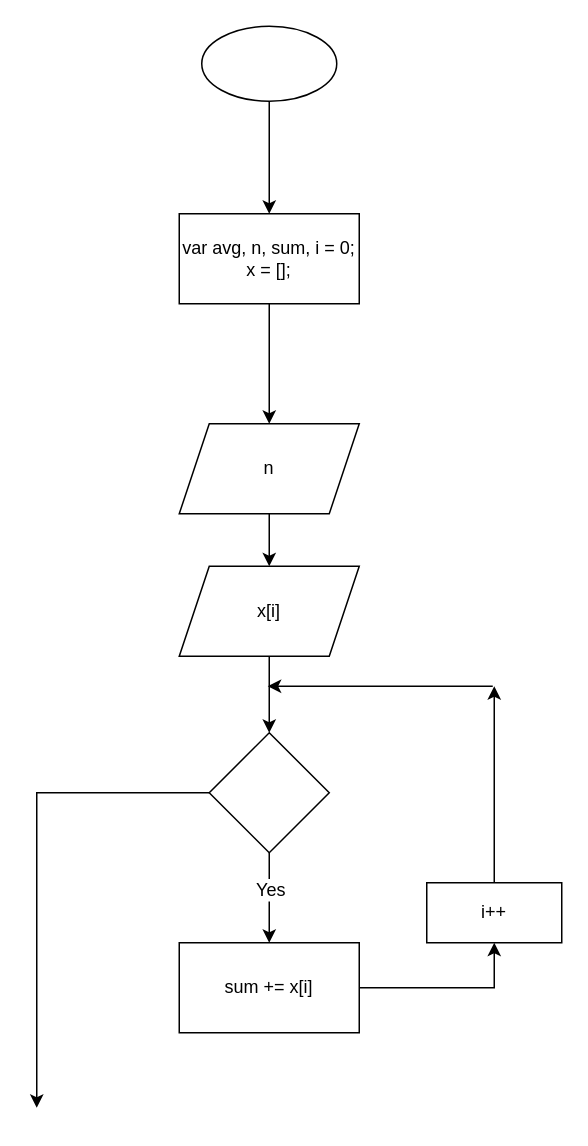
This 588x1146 diagram has some shape labels left out. The centre of each missing label's shape, as x and y in pixels:
"n < x.length" belongs at (268,792).
"start" belongs at (268,63).
